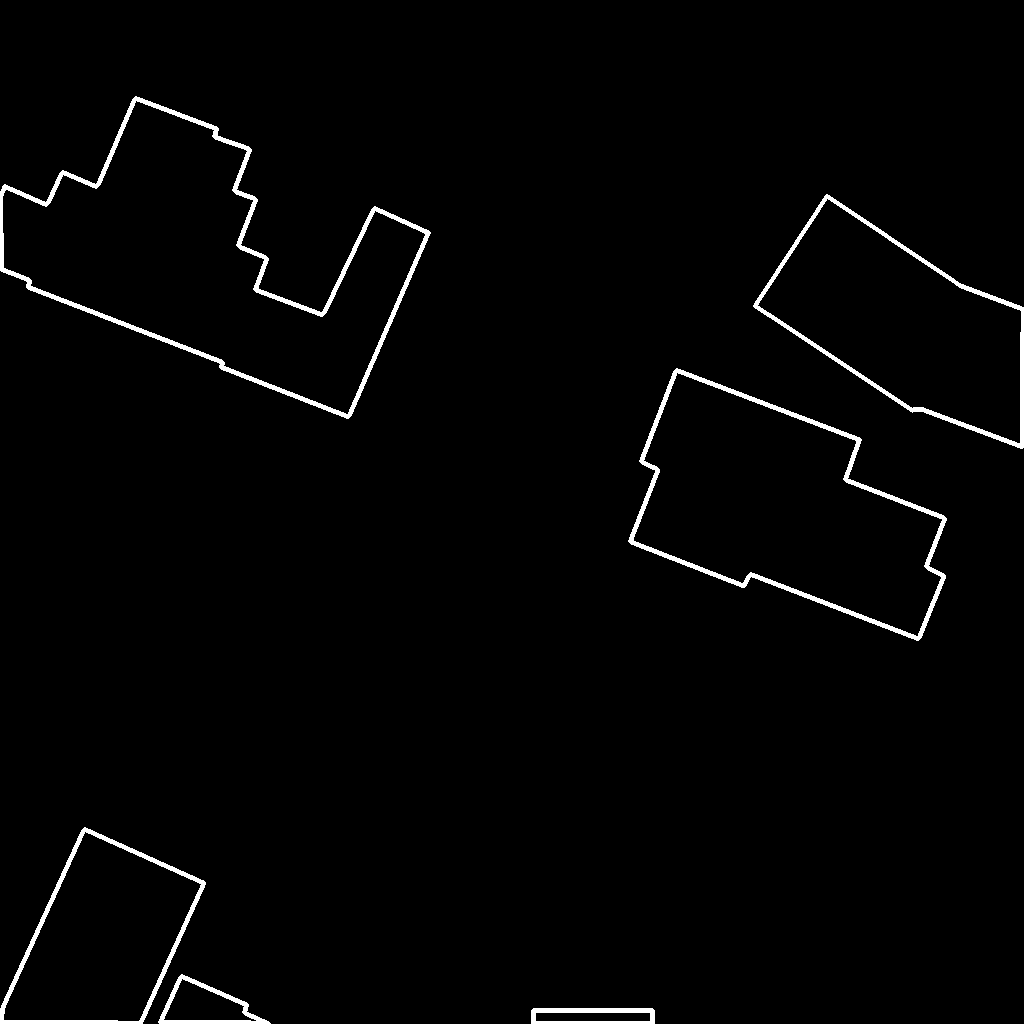building: (0, 98, 430, 418), (630, 370, 946, 640), (755, 196, 1024, 448), (0, 829, 205, 1024), (160, 976, 270, 1024), (533, 1010, 654, 1024)
